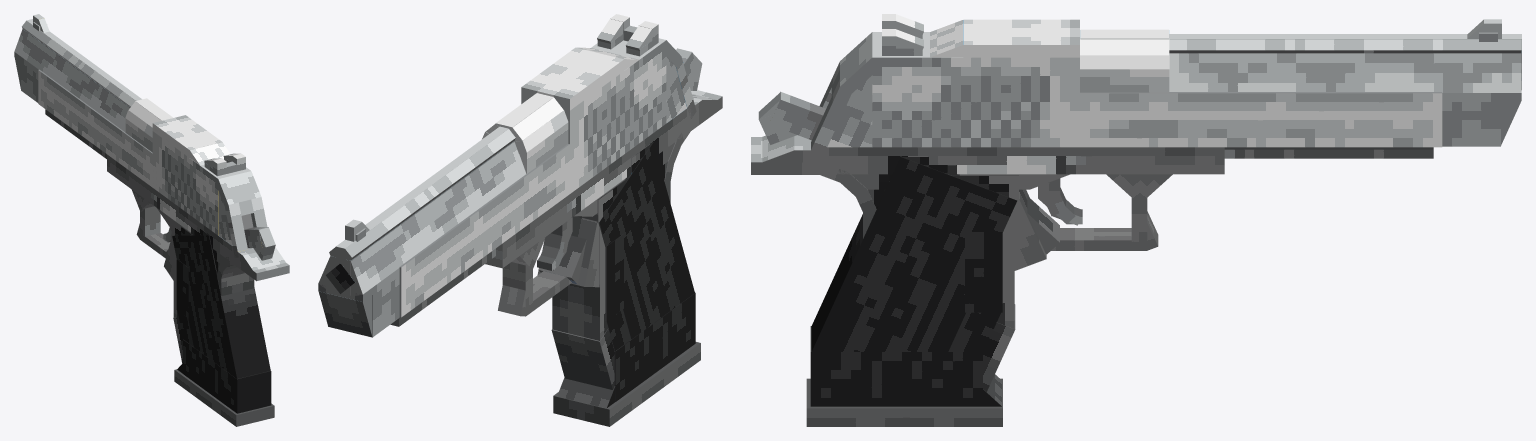
3 renders of one model, left to right at view 1: azimuth 30°, elevation 25°; view 2: azimuth 150°, elevation 25°; view 3: azimuth 270°, elevation 25°, orthographic. The views are drawn at different scales.
Visible parts, largest first — view 1: cube (×31); view 2: cube (×37); view 3: cube (×35).
Boxes of the visible parts, <box> form: cube (×31): <box>14,19,289,426</box>; cube (×37): <box>318,19,722,426</box>; cube (×35): <box>751,19,1521,426</box>.
Bounding box in the file's own units: 0.1107 × 0.6803 × 1.22.
1 material, 1 textured.
